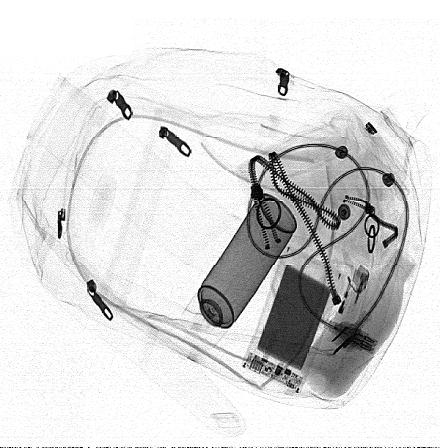Lighter: (317, 260, 371, 370)
Powerbank: (242, 242, 346, 394)
Sprayer: (181, 192, 297, 353)
